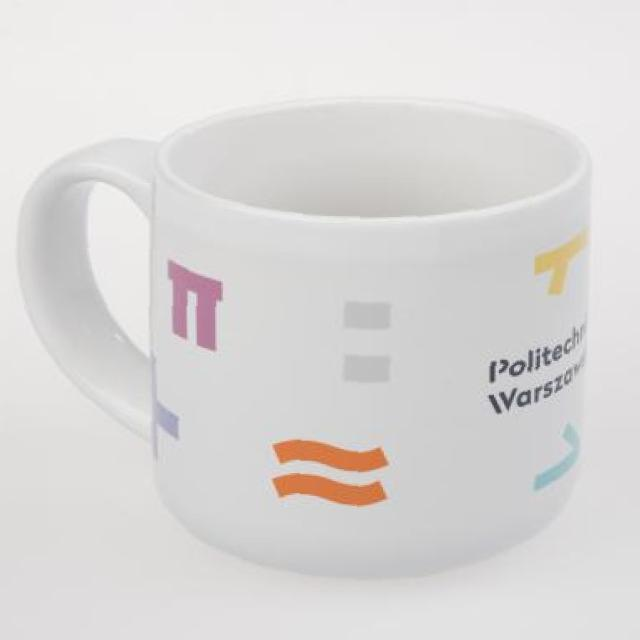cup: (4, 82, 600, 590)
